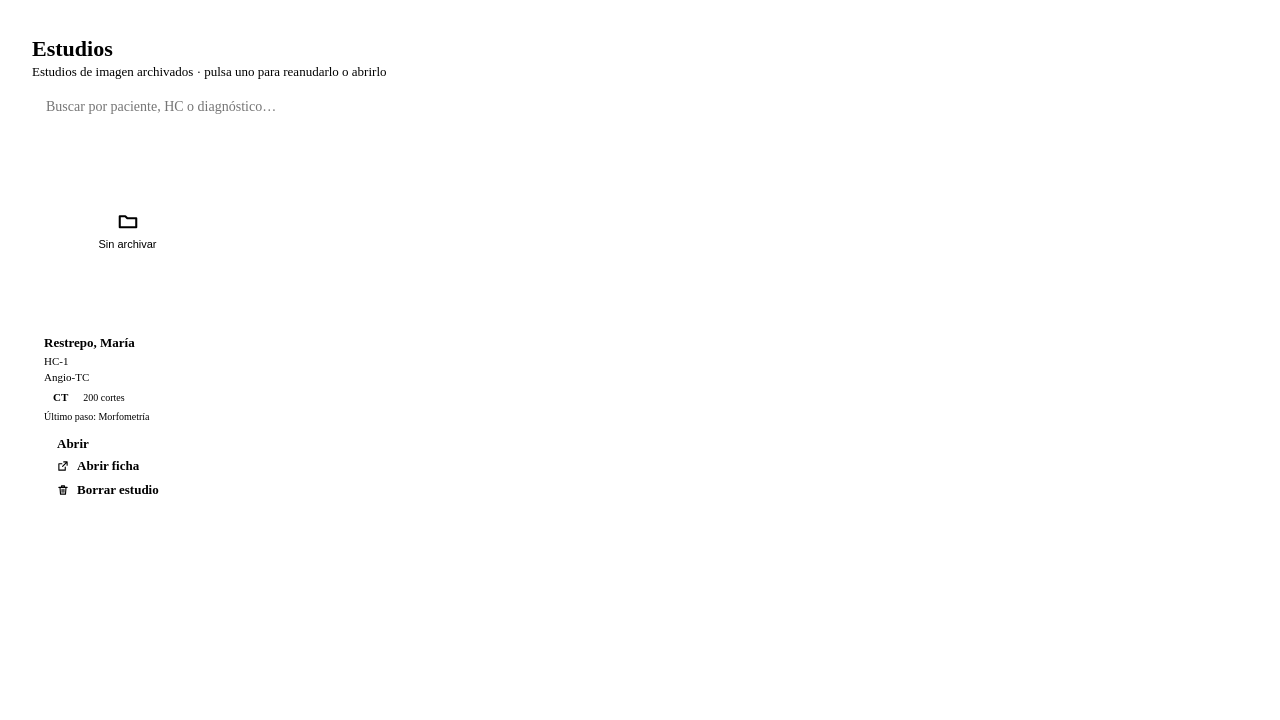
Test case: «Estudios»: tarjeta y borrado (F2-33, F2-34, F2-35) › sin sesión guardada que conserve copia, avisa de que el DICOM se pierde del todo
Click the button "Borrar estudio" at (108,490), box [44,481,172,499]
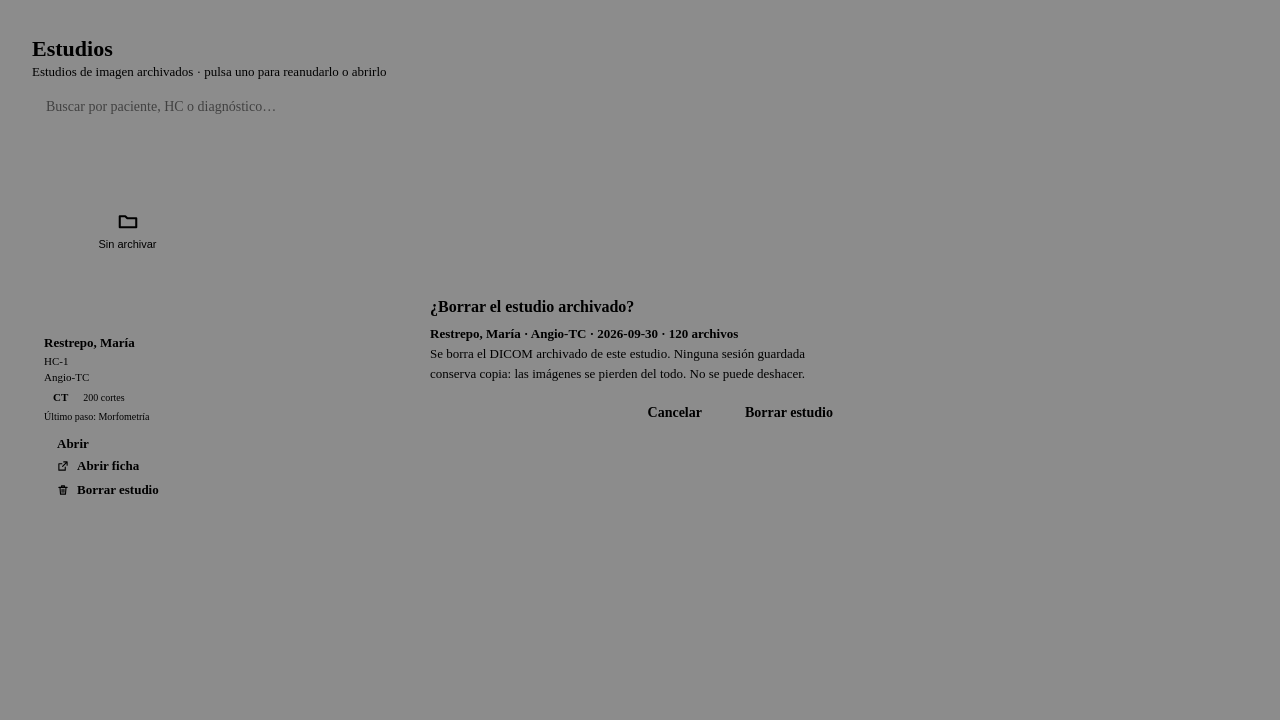
expect the dialog shows "Restrepo, María": met, box [430,326,738,341]
expect the dialog shows "Ninguna sesión guardada conserva copia: las imágenes se pierden del todo.": met, box [430,346,805,381]
